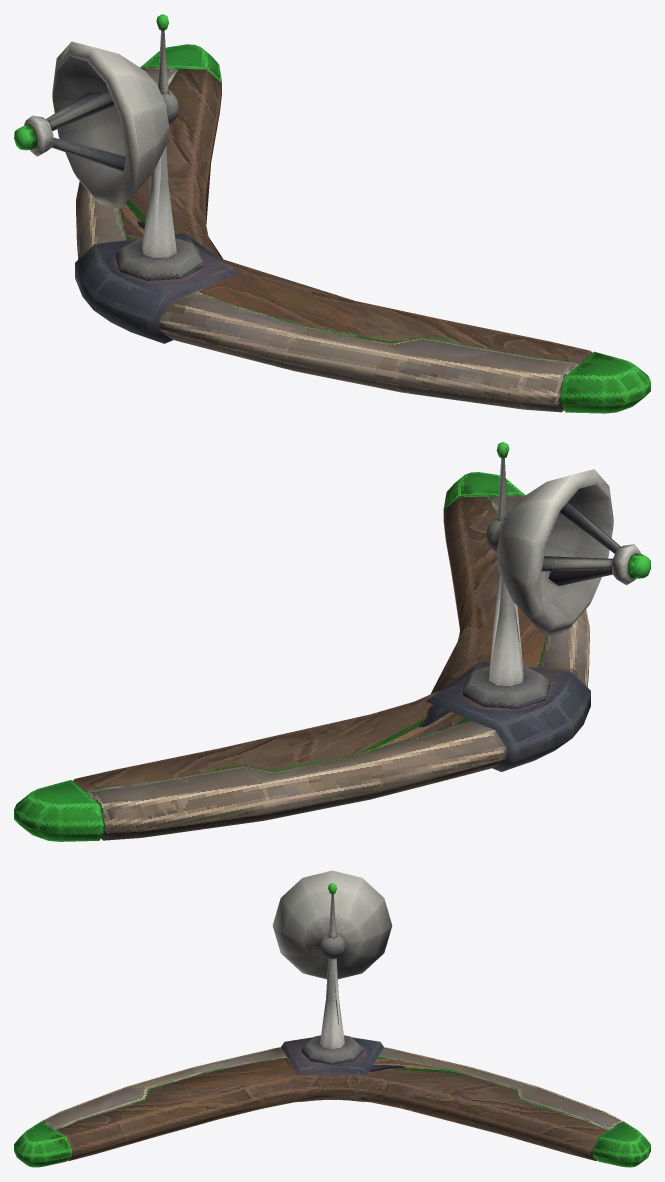
File: item_guided_boomerang.glb
3 renders of one model, top to bottom at view 1: azimuth 30°, elevation 25°; view 2: azimuth 150°, elevation 25°; view 3: azimuth 270°, elevation 25°, orthographic. The views are drawn at different scales.
Parts seen in each view (by area): view 1: BoomerangTracker, Antenna; view 2: BoomerangTracker, Antenna; view 3: BoomerangTracker, Antenna.
Boxes of the visible parts, <box> form: BoomerangTracker: <box>75,44,650,413</box>; Antenna: <box>14,14,178,208</box>; BoomerangTracker: <box>14,472,590,841</box>; Antenna: <box>486,442,650,636</box>; BoomerangTracker: <box>14,958,650,1167</box>; Antenna: <box>272,870,392,979</box>.
Bounding box in the file's own units: 0.1934 × 0.1319 × 0.3752.
Materials: 1 (1 with a texture image).
